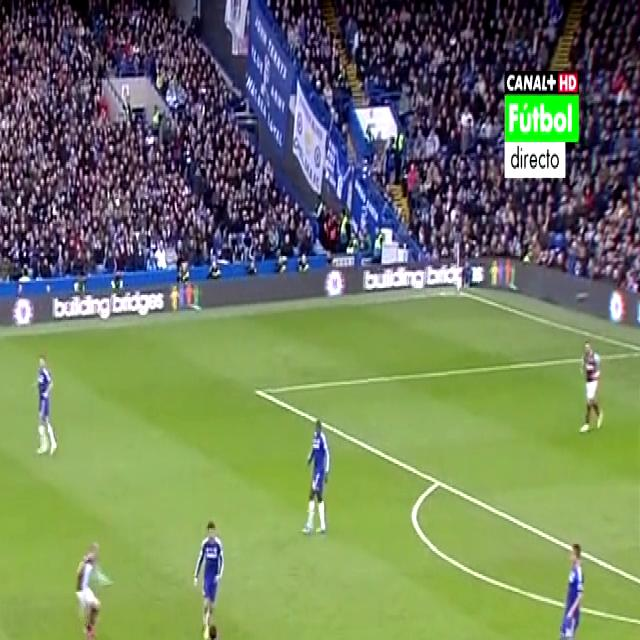soccer-player: (298, 404, 336, 543), (68, 530, 115, 640), (193, 510, 230, 637), (549, 538, 589, 640), (574, 323, 607, 442), (30, 342, 61, 462), (193, 617, 229, 640)
